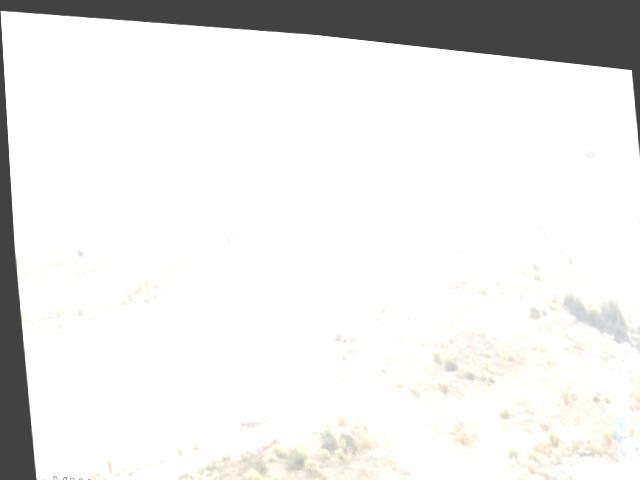plane: (377, 219, 391, 229)
